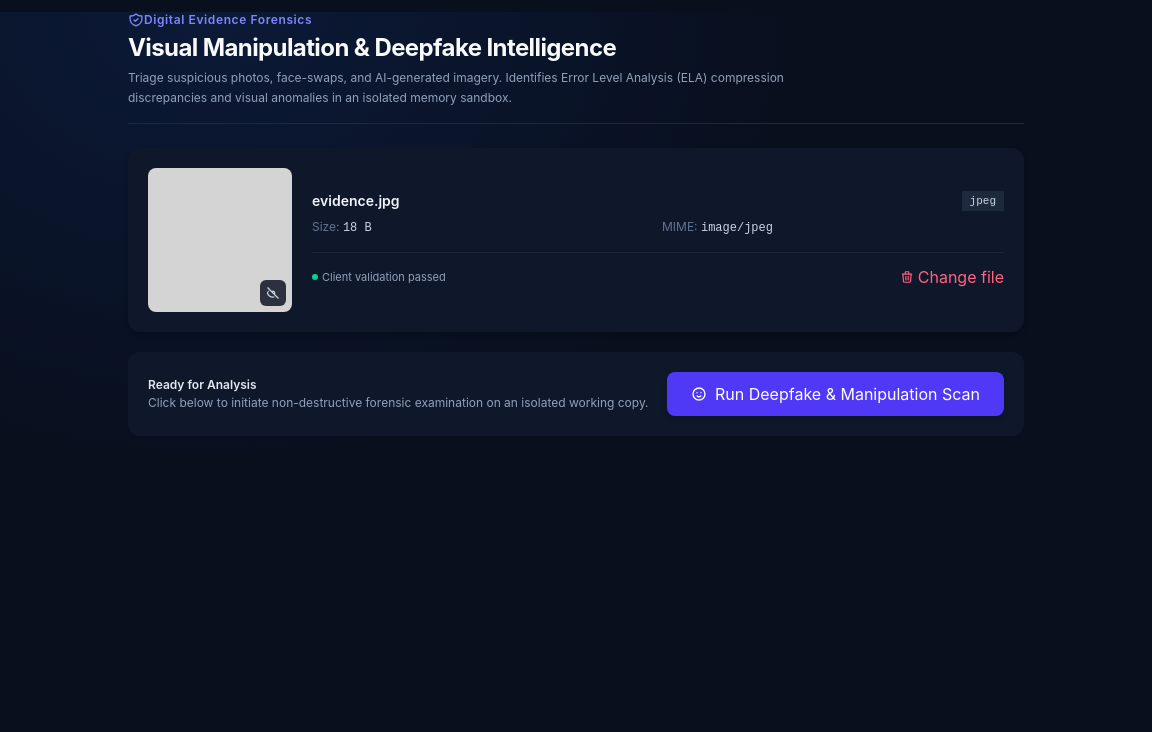
Test case: SafeImageAnalysisWorkflow Component › prevents duplicate submissions while analysis is in progress
Earlier steps of the test are not shown.
Later steps or results of the test are not shown.
Click the button "Run Deepfake & Manipulation Scan". click: (836, 394)
box: [667,372,1004,416]
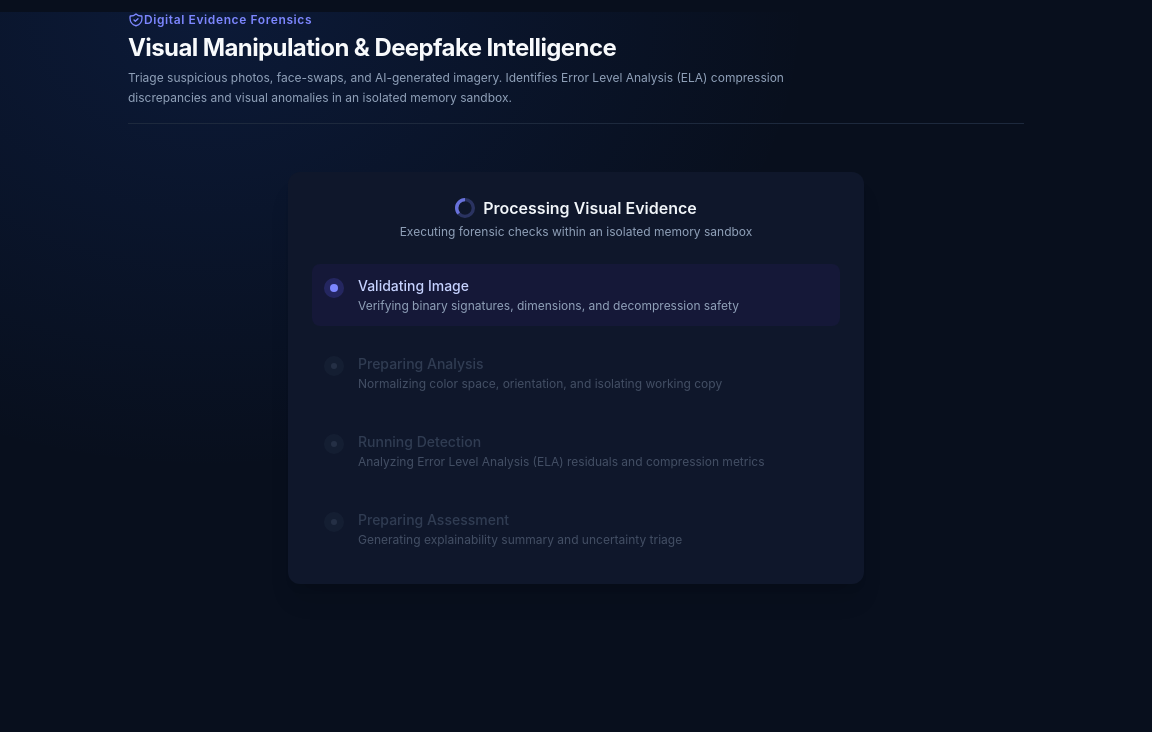
Expected: the button "Run Deepfake & Manipulation Scan" is gone
